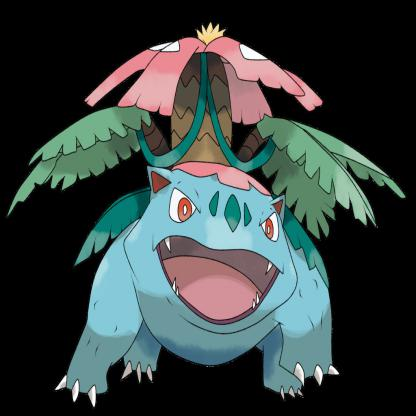Venusaur: (52, 15, 416, 416)
